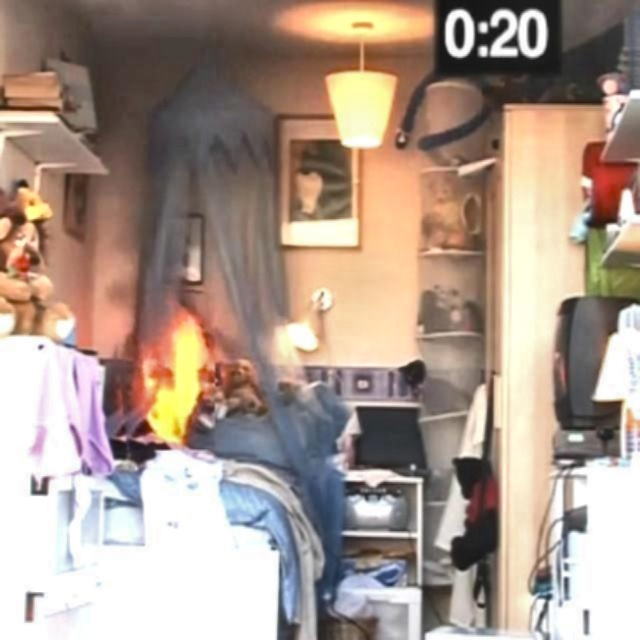fire: (135, 307, 230, 459)
